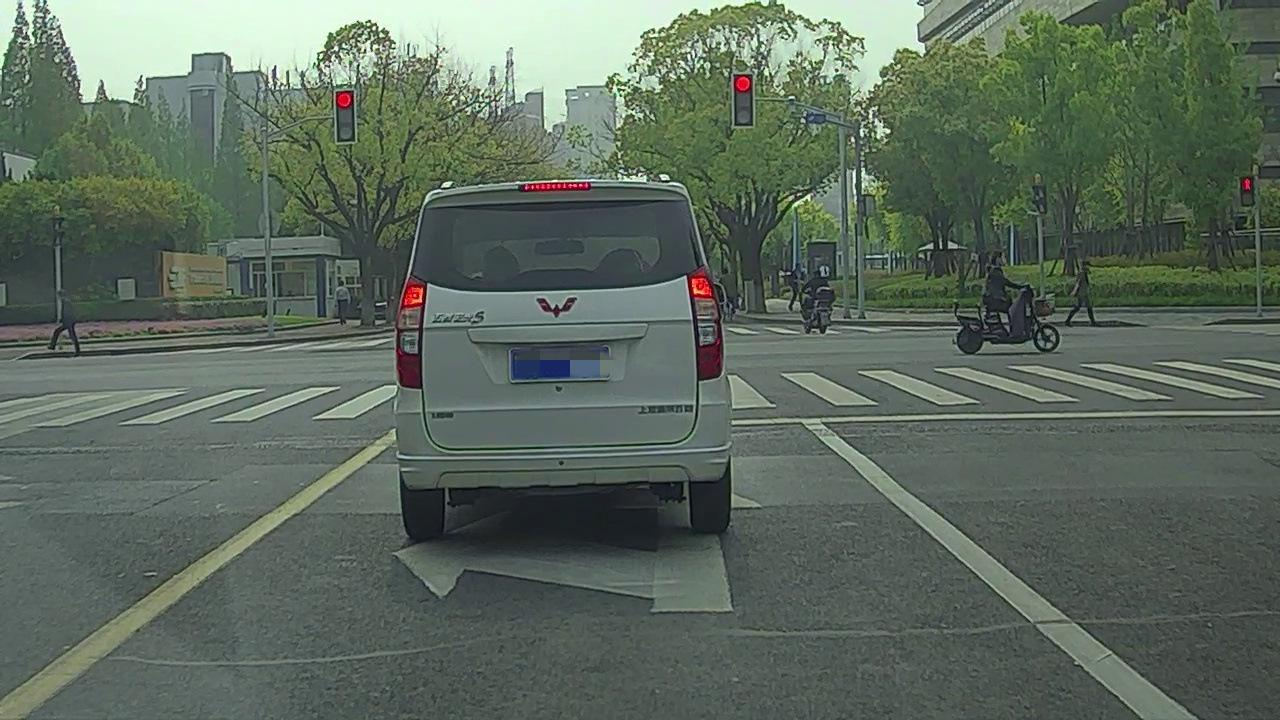traffic_light: (335, 91, 356, 141), (734, 73, 752, 125)
